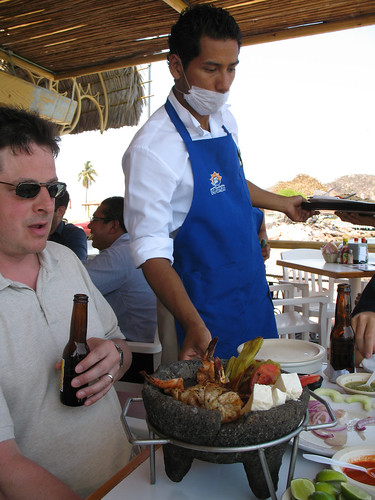mask: (184, 85, 237, 120)
